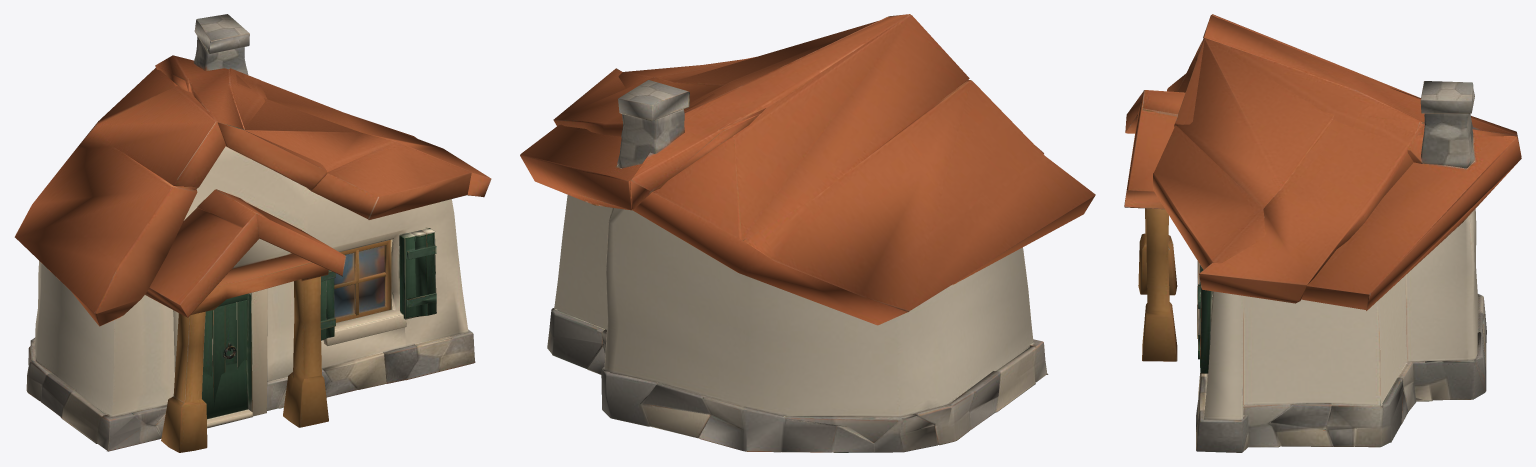
Rendered from AW-HOUSE-001-v0.2.glb.
3 renders of one model, left to right at view 1: azimuth 30°, elevation 25°; view 2: azimuth 150°, elevation 25°; view 3: azimuth 270°, elevation 25°, orthographic. The views are drawn at different scales.
Visible parts, largest first — view 1: AW-HOUSE-001_meter_ground_pivot; view 2: AW-HOUSE-001_meter_ground_pivot; view 3: AW-HOUSE-001_meter_ground_pivot.
Boxes of the visible parts, box(x1,y1,x2,y2) form: AW-HOUSE-001_meter_ground_pivot: box(14, 14, 491, 452); AW-HOUSE-001_meter_ground_pivot: box(520, 14, 1095, 452); AW-HOUSE-001_meter_ground_pivot: box(1124, 14, 1521, 452).
Size of the model in its own units: 6.29 by 4.3 by 4.99.
Materials: 1 (1 with a texture image).
